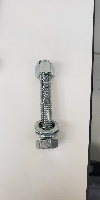FinishedAssembly: (32, 57, 59, 155)
